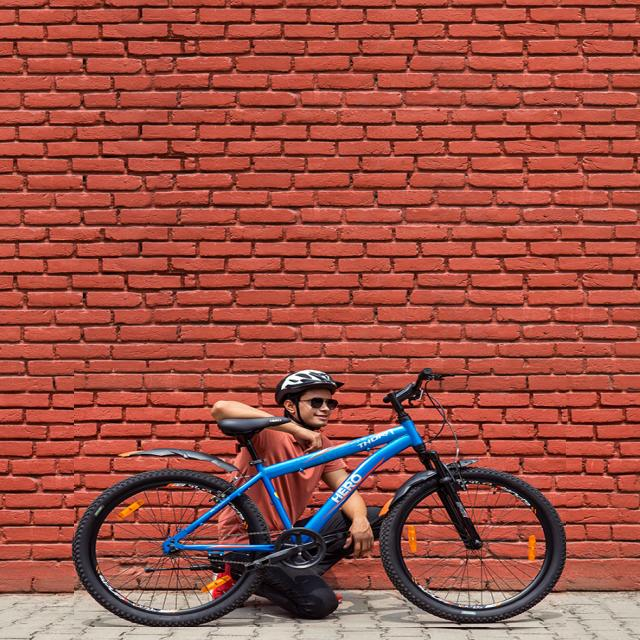bicycle: (74, 369, 565, 627)
